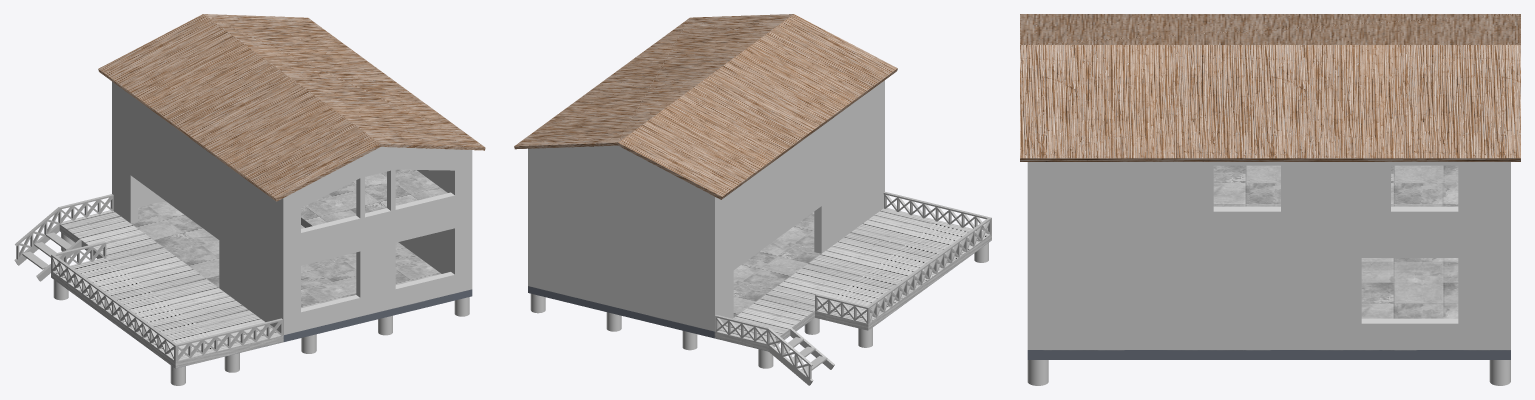
File: newhouse.fbx
The picture shows the model from 3 angles, left to right: view 1: azimuth 30°, elevation 25°; view 2: azimuth 150°, elevation 25°; view 3: azimuth 270°, elevation 25°; orthographic projection. The views are drawn at different scales.
Visible parts, largest first — view 1: 3DGeom-9_5_3DGeom-9, 3DGeom-20, 3DGeom-22, 3DGeom-52_7; view 2: 3DGeom-9_5_3DGeom-9, 3DGeom-20, 3DGeom-22, 3DGeom-52_7; view 3: 3DGeom-9_5_3DGeom-9, 3DGeom-20, 3DGeom-22.
Boxes of the visible parts, <box> form: 3DGeom-9_5_3DGeom-9: <box>53,81,472,385</box>; 3DGeom-20: <box>98,14,485,201</box>; 3DGeom-22: <box>51,169,472,368</box>; 3DGeom-52_7: <box>14,194,282,361</box>; 3DGeom-9_5_3DGeom-9: <box>528,80,988,368</box>; 3DGeom-20: <box>514,14,897,199</box>; 3DGeom-22: <box>528,208,991,351</box>; 3DGeom-52_7: <box>715,192,991,385</box>; 3DGeom-9_5_3DGeom-9: <box>1027,162,1510,385</box>; 3DGeom-20: <box>1020,14,1520,161</box>; 3DGeom-22: <box>1027,165,1510,359</box>.
Size of the model in its own units: 1139 by 715 by 1139.
